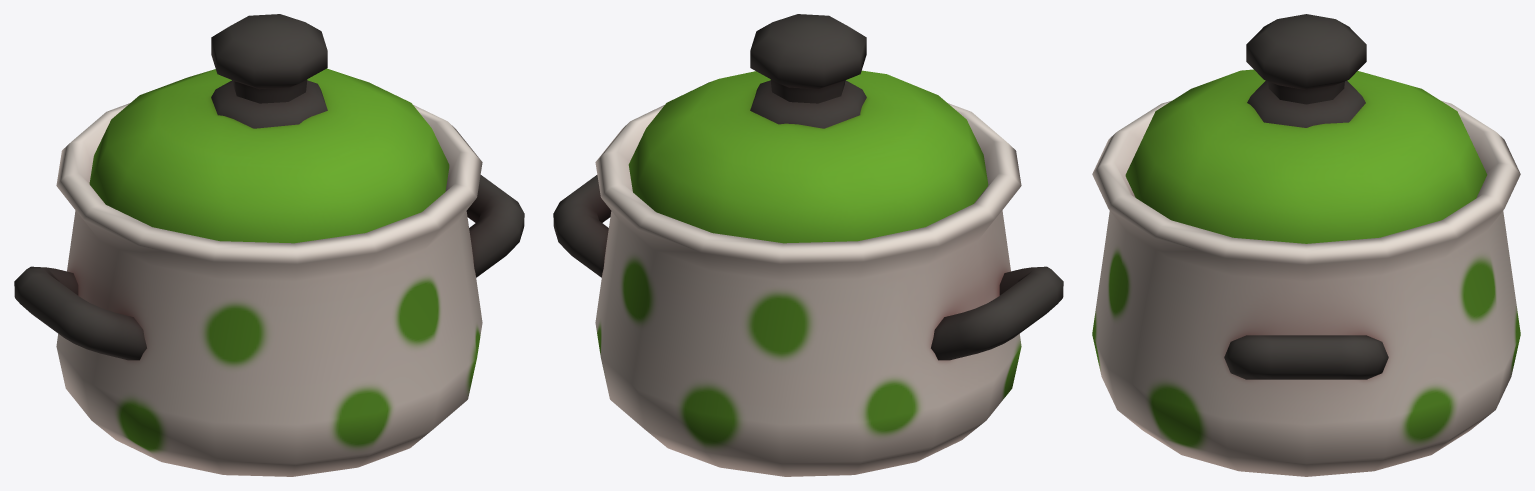
Rendered from souppot_01.fbx.
The picture shows the model from 3 angles, left to right: view 1: azimuth 30°, elevation 25°; view 2: azimuth 150°, elevation 25°; view 3: azimuth 270°, elevation 25°; orthographic projection.
Visible parts, largest first — view 1: souppot_01_ready; view 2: souppot_01_ready; view 3: souppot_01_ready.
Boxes of the visible parts, bbox=[...] form: souppot_01_ready: bbox=[14, 14, 524, 476]; souppot_01_ready: bbox=[553, 14, 1063, 476]; souppot_01_ready: bbox=[1092, 14, 1520, 476].
Bounding box in the file's own units: 49.46 × 39.47 × 39.77.
